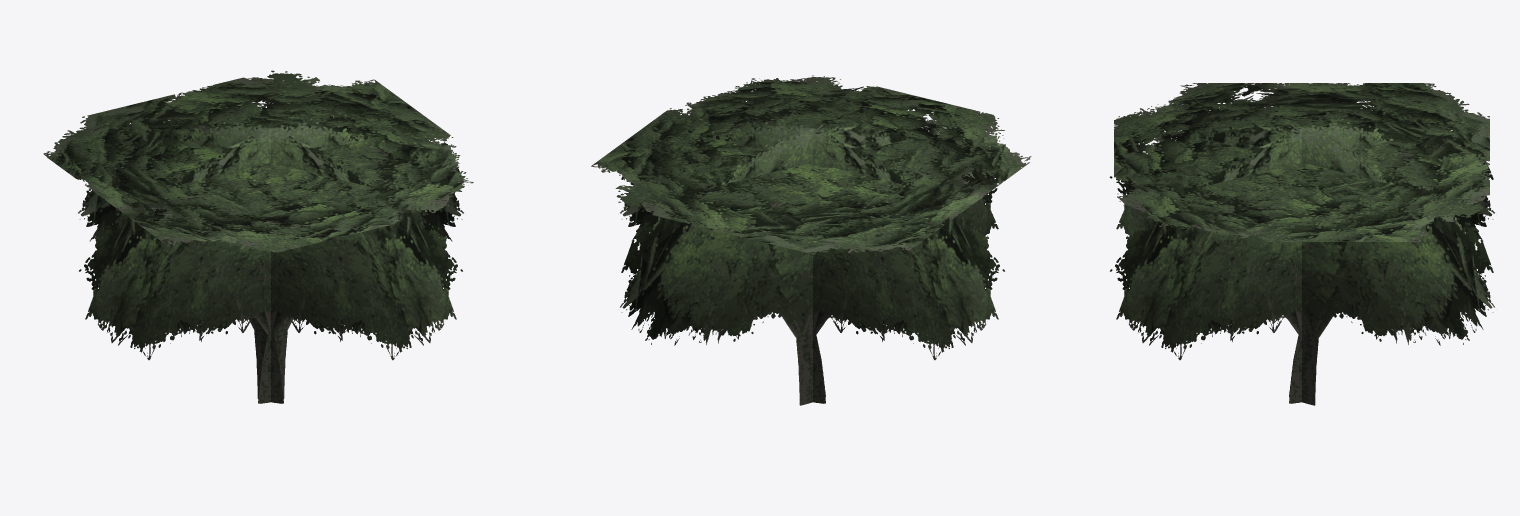
Rendered from tree_oak_lod1.glb.
3 renders of one model, left to right at view 1: azimuth 30°, elevation 25°; view 2: azimuth 150°, elevation 25°; view 3: azimuth 270°, elevation 25°, orthographic.
Parts seen in each view (by area): view 1: tree_oak_lod1; view 2: tree_oak_lod1; view 3: tree_oak_lod1.
Part boxes in pixels (x1,y1,x2,y2): tree_oak_lod1: (43, 70, 473, 403); tree_oak_lod1: (591, 75, 1031, 405); tree_oak_lod1: (1109, 83, 1494, 405).
Bounding box in the file's own units: 14.49 × 9.84 × 12.55.
1 material, 1 textured.
